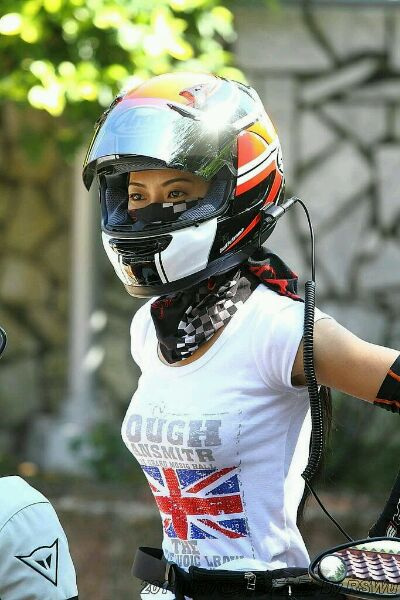face_mask: (127, 145, 211, 294)
